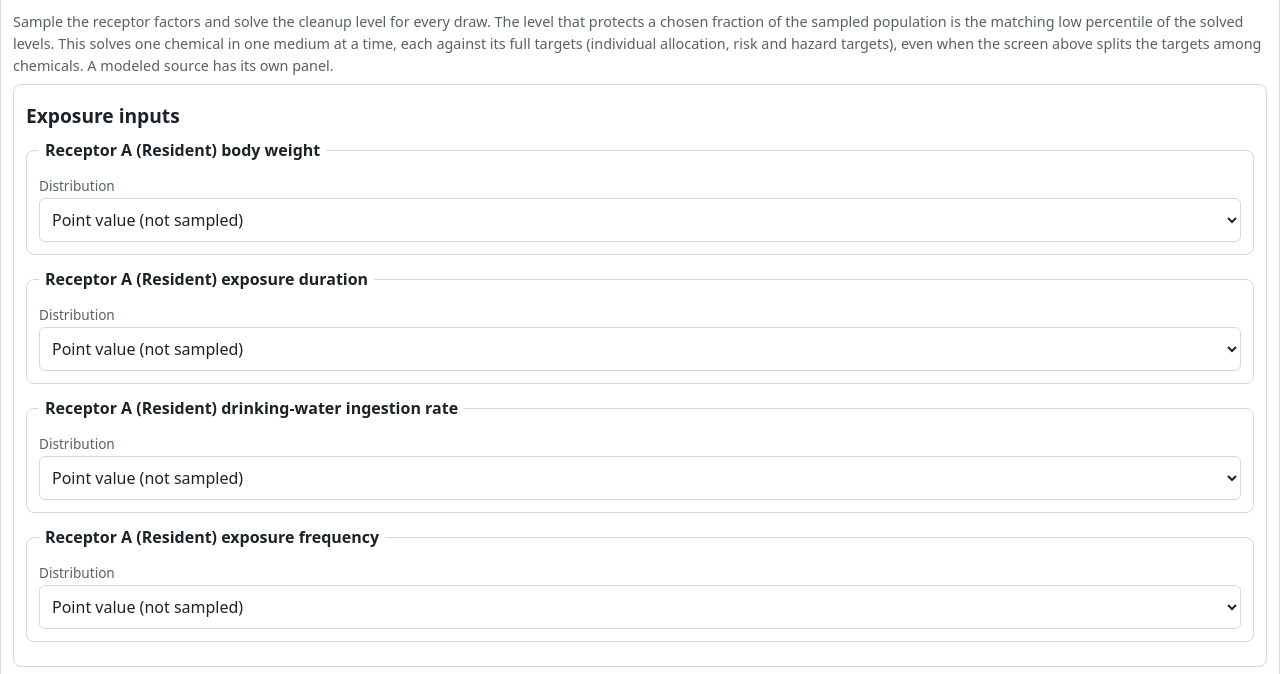
Test case: CleanupUncertainty › runs, reports the protective levels in the screen unit and draws the charts
The image size is (1280, 674).
Select "Uniform" in the dropdown labelled "Distribution" below "Receptor A (Resident) body weight" at coordinates (640, 220), box [39,198,1241,242]
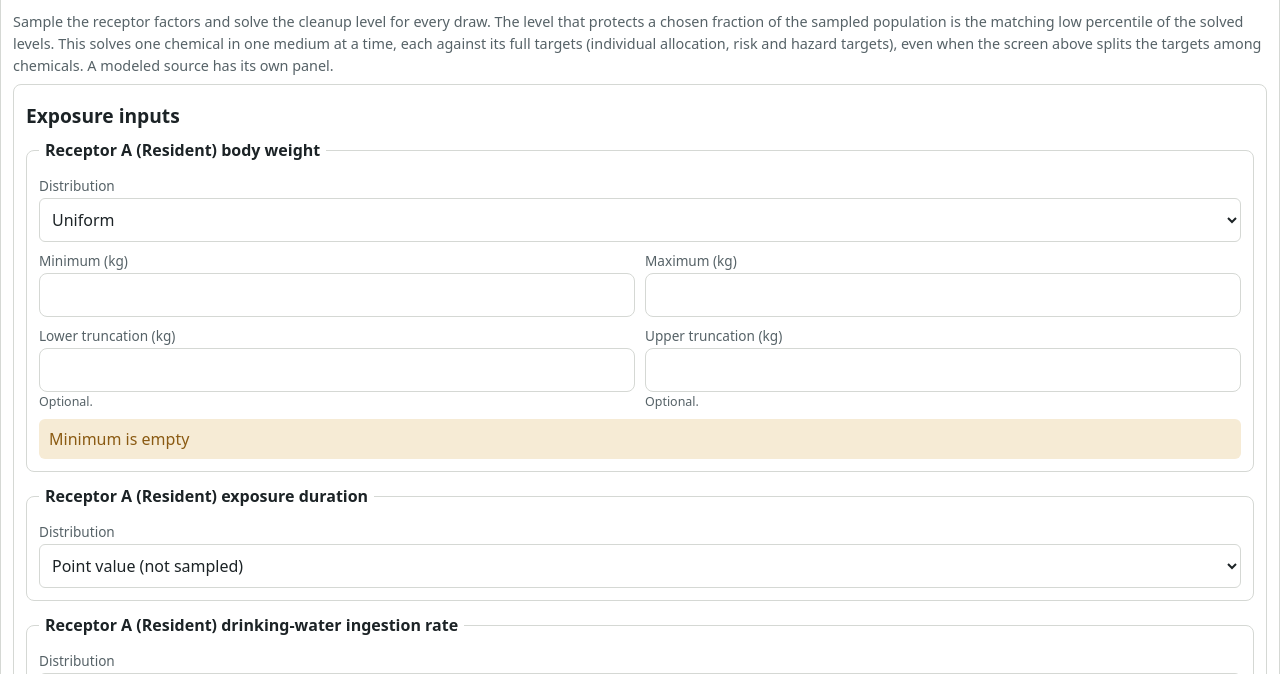
Type "50" into the field labelled "Minimum (kg)" at coordinates (337, 295), box [39,273,635,317]
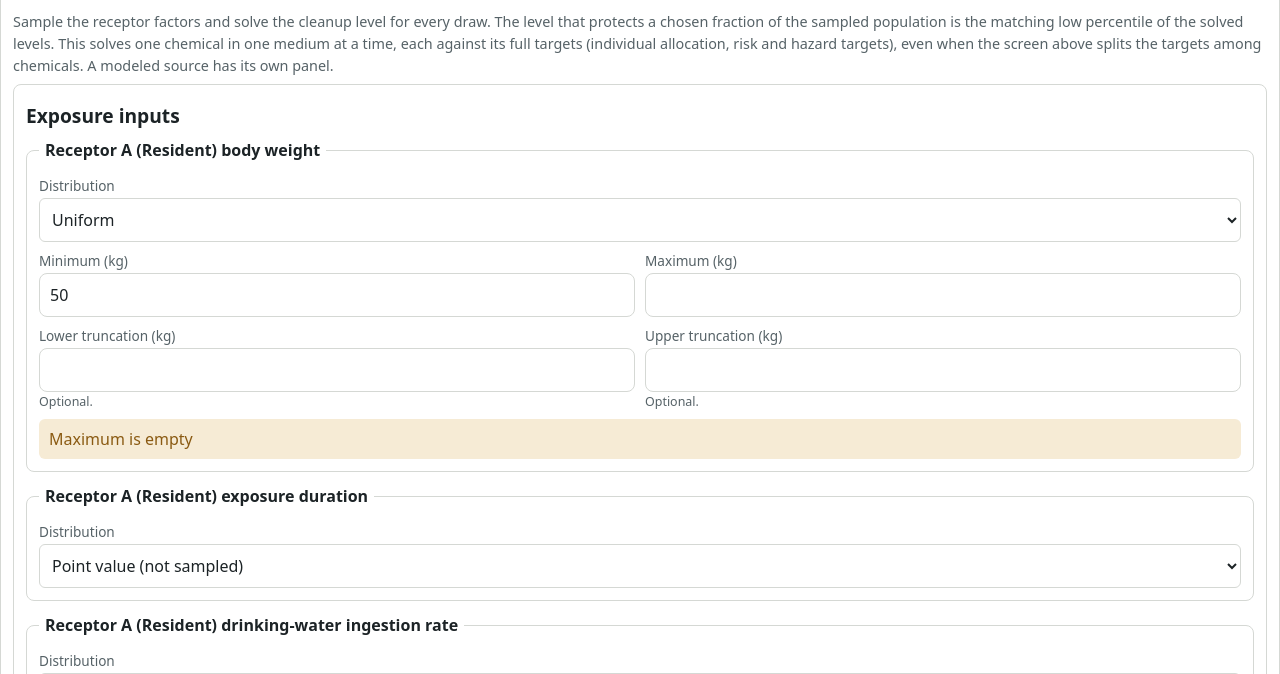
Type "100" into the field labelled "Maximum (kg)" at coordinates (943, 295), box [645,273,1241,317]
(page scrolled)
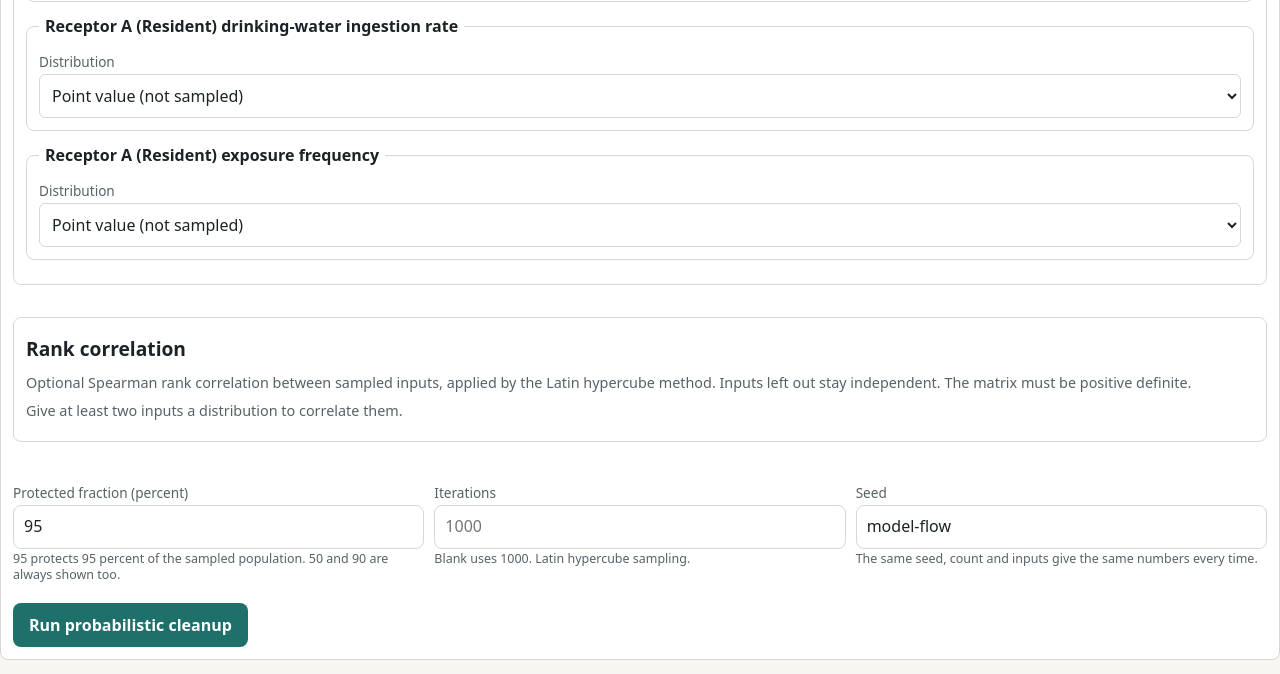
Type "200" into the field labelled "Iterations Blank uses 1000. Latin hypercube sampling." at coordinates (640, 527), box [434,505,846,549]
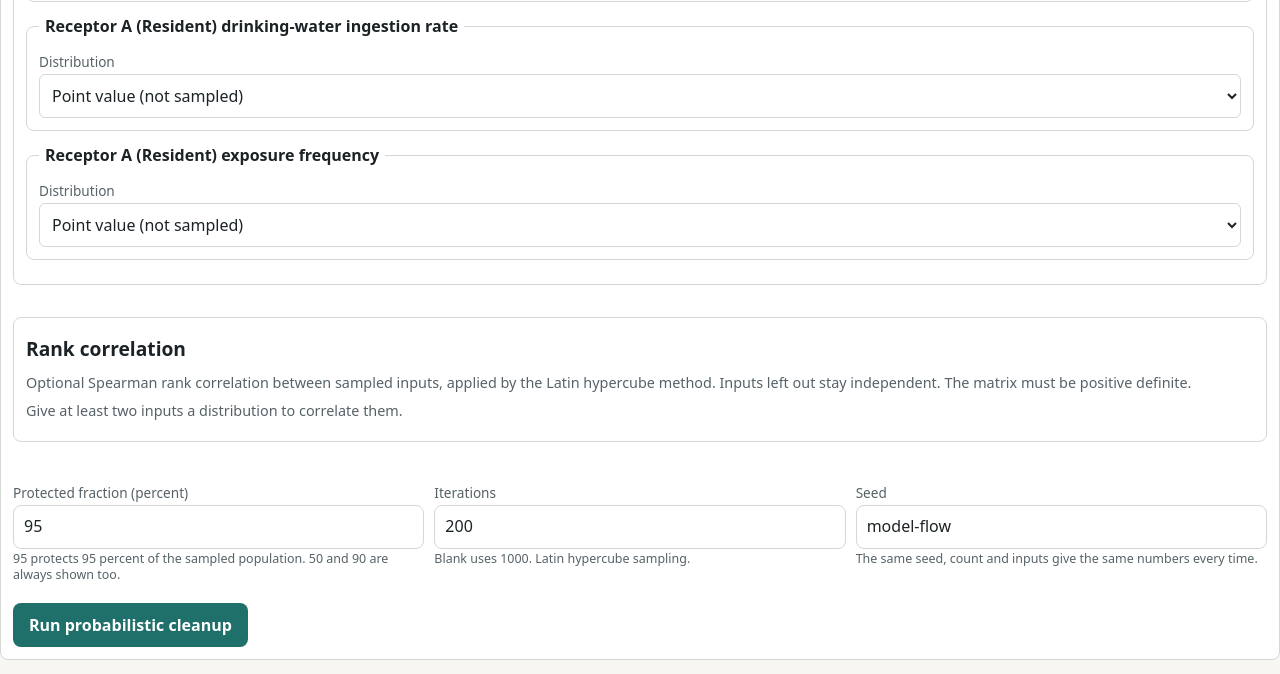
Expected: the field labelled "Seed" holds "model-flow", [856,505,1267,549]
Click the button "Run probabilistic cleanup" at coordinates (130, 625), box [13,603,248,647]
(page scrolled)
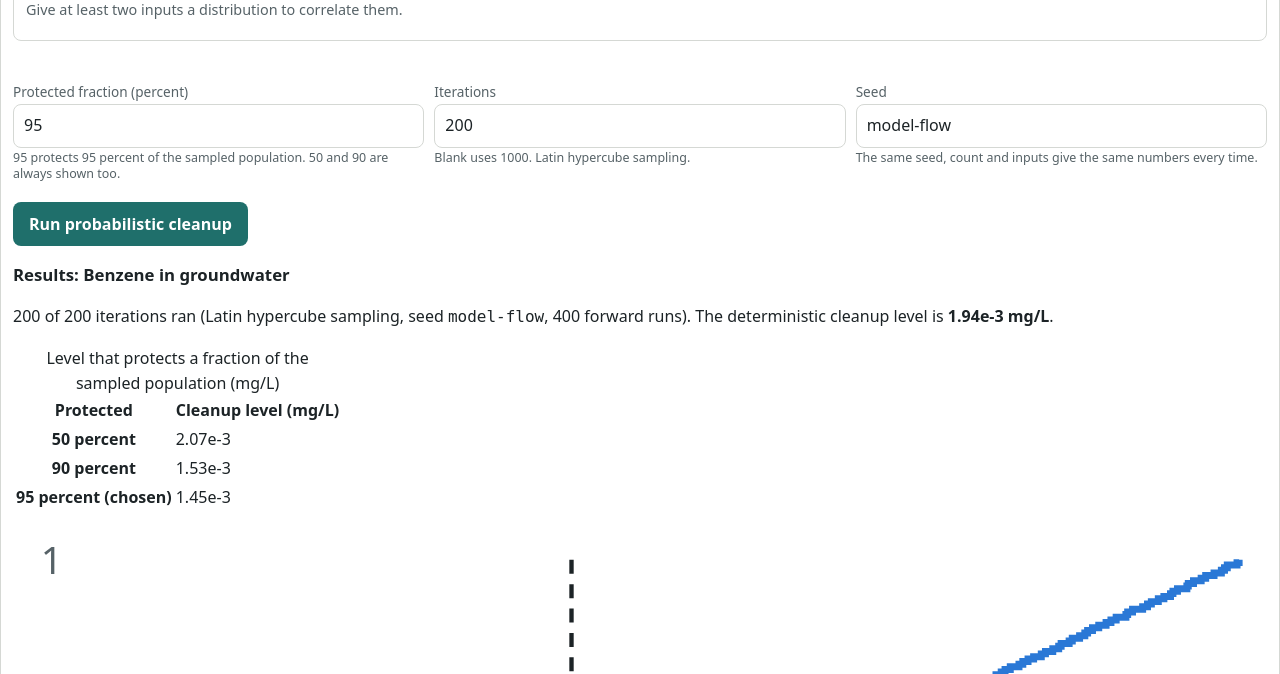
Expected: the number of rows is 4, [15,397,340,424]; [15,426,340,453]; [15,455,340,482]; [15,484,340,511]
Expected: the table named "protective cleanup levels" shows "95", [16,486,34,508]
Expected: the table named "protective cleanup levels" shows "mg/L", [235,372,274,394]
